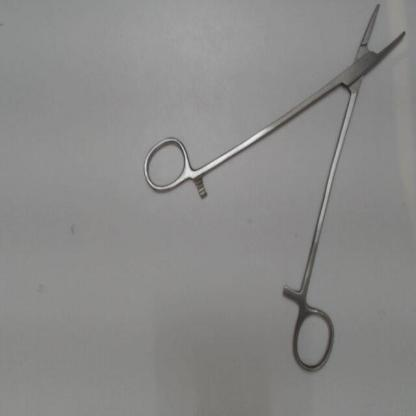8 Mayo Needle Holder: (137, 0, 414, 383)
